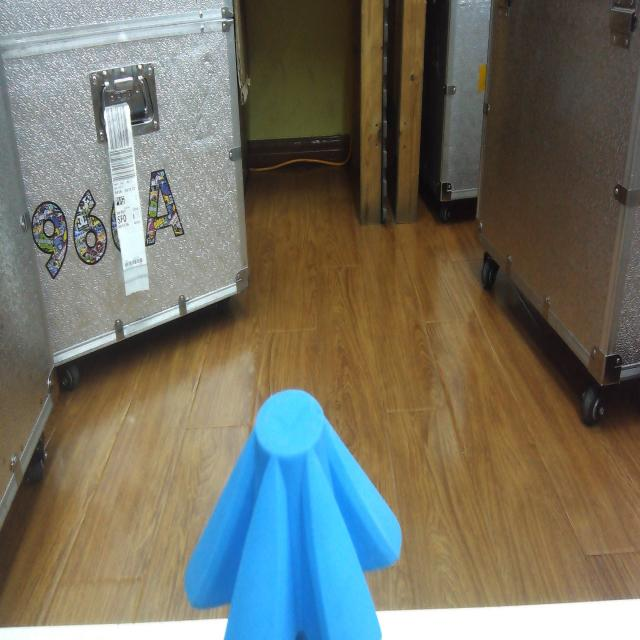zblue-Stake-Head: (185, 387, 402, 640)
